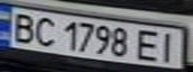1: (57, 18, 81, 52)
7: (75, 20, 96, 53)
8: (109, 25, 133, 58)
9: (90, 21, 112, 56)
B: (6, 10, 39, 44)
C: (30, 15, 60, 47)
E: (133, 27, 163, 63)
I: (154, 29, 184, 63)
